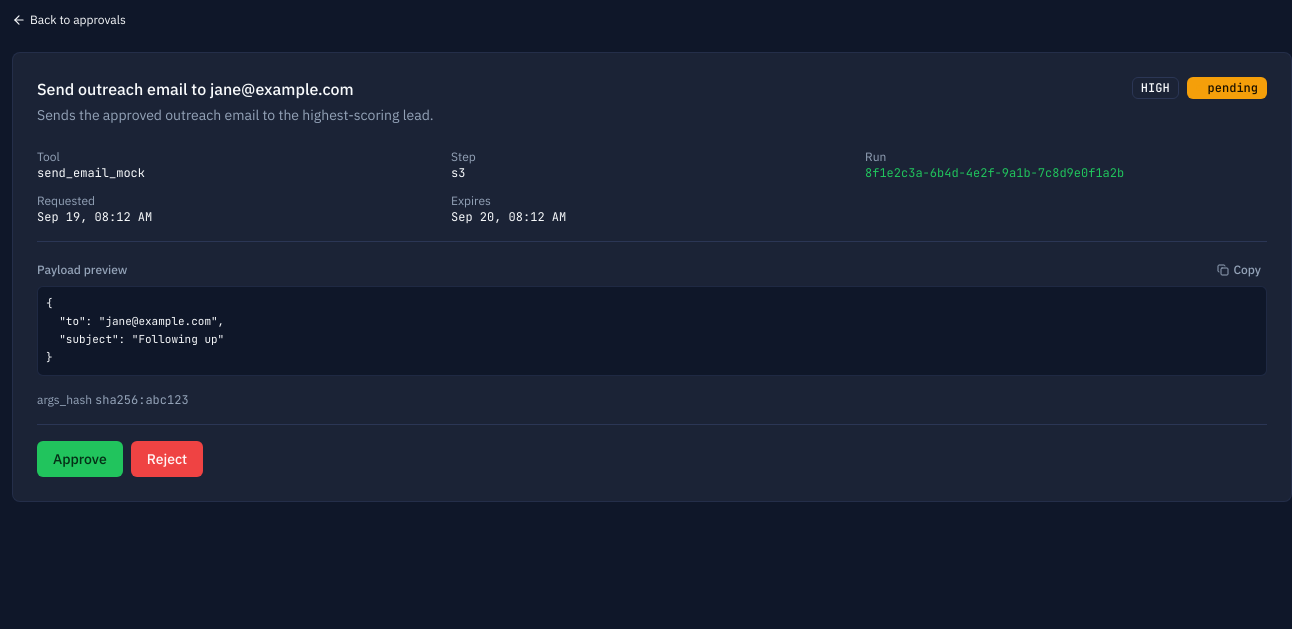
ApprovalDetailView › requires a reason before rejecting can be confirmed
The width and height of the screenshot is (1292, 629).
Click the button "Reject" at coordinates (167, 458), box [131,440,203,476]
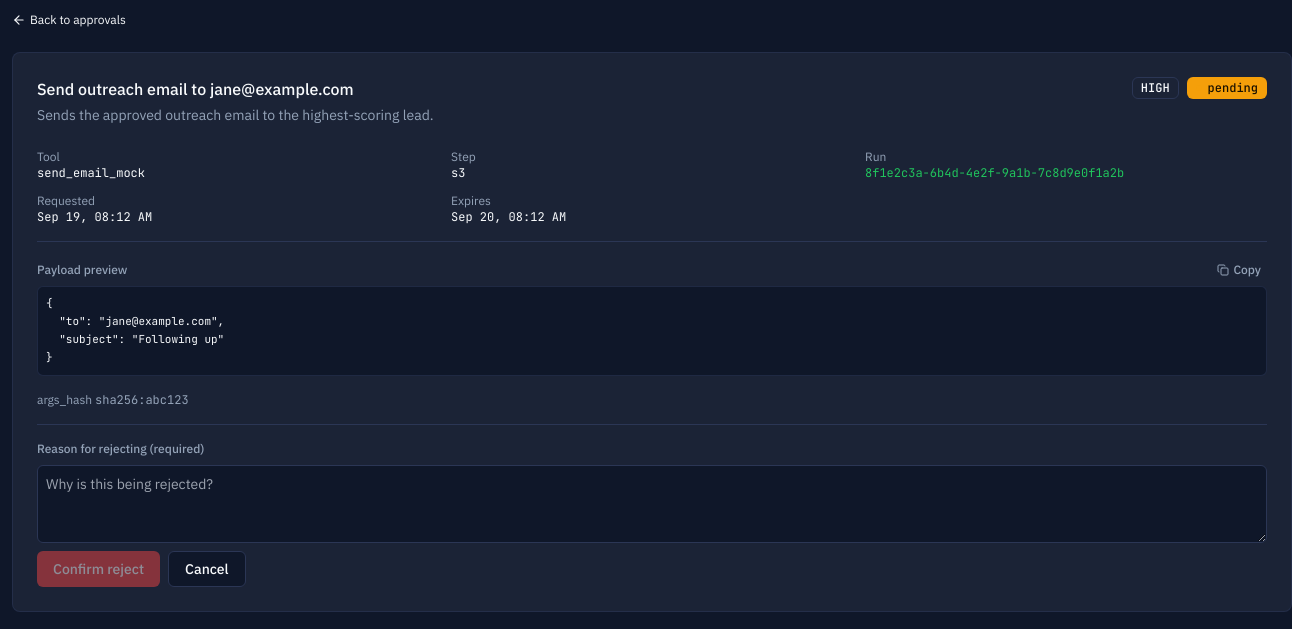
expect the button "Confirm reject" is disabled: met, box [37,550,160,586]
Type "Wrong recipient" into the text box labelled "Reason for rejecting (required)" at coordinates (652, 504), box [37,464,1267,542]
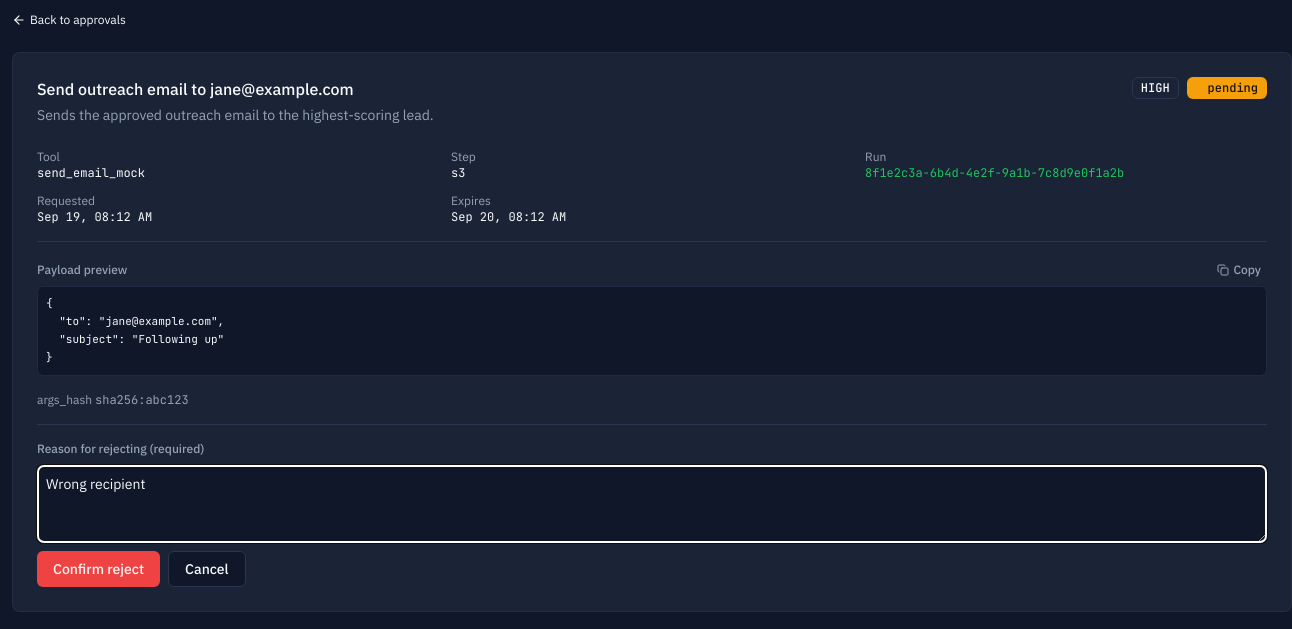
expect the button "Confirm reject" is enabled: met, box [37,550,160,586]
